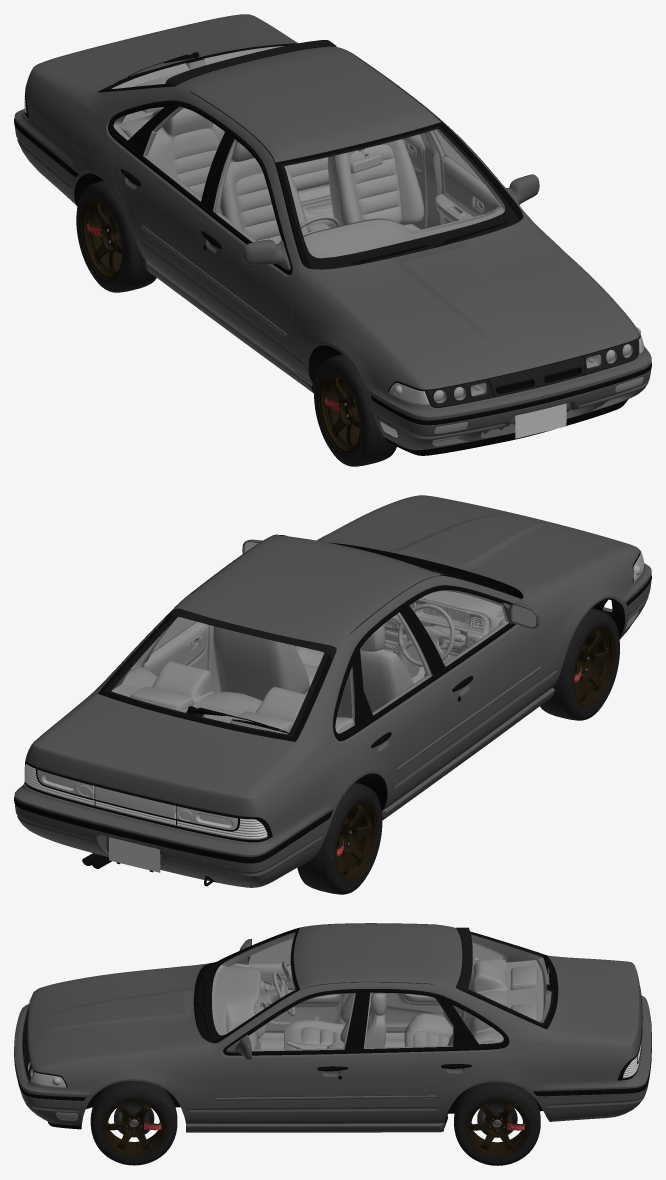
Rendered from cefiro.fbx.
The picture shows the model from 3 angles, top to bottom: view 1: azimuth 30°, elevation 25°; view 2: azimuth 150°, elevation 25°; view 3: azimuth 270°, elevation 25°; orthographic projection. The views are drawn at different scales.
Visible parts, largest first — view 1: body_0, window_rear_0, body_006, interior_h_0, body_001, seat_LOD0_0, misc_002, body_005, body_002, misc_009, glass_lights_005, Object004 (+14 smaller); view 2: body_0, window_rear_0, body_002, body_001, body_006, interior_h_0, body_004, seat_LOD0_0, misc_002, misc_009, TIRE_RF_SUB006, TIRE_RF_SUB007 (+17 smaller); view 3: body_0, window_rear_0, body_001, interior_h_0, body_006, body_002, misc_002, misc_009, TIRE_RF_SUB004, TIRE_RF_SUB005, seat_LOD0_0, body_005 (+17 smaller).
Part boxes in pixels (x1=…): body_0: x1=25, y1=14, x2=639, y2=402; window_rear_0: x1=105, y1=44, x2=519, y2=269; body_006: x1=311, y1=217, x2=638, y2=389; interior_h_0: x1=112, y1=46, x2=504, y2=258; body_001: x1=113, y1=58, x2=527, y2=369; seat_LOD0_0: x1=220, y1=139, x2=424, y2=244; misc_002: x1=26, y1=43, x2=523, y2=392; body_005: x1=366, y1=346, x2=651, y2=450; body_002: x1=40, y1=14, x2=292, y2=91; misc_009: x1=120, y1=53, x2=521, y2=274; glass_lights_005: x1=388, y1=327, x2=644, y2=407; Object004: x1=388, y1=334, x2=640, y2=408; body_0: x1=25, y1=535, x2=639, y2=879; window_rear_0: x1=105, y1=566, x2=508, y2=736; body_002: x1=37, y1=694, x2=294, y2=815; body_001: x1=186, y1=550, x2=544, y2=807; body_006: x1=317, y1=495, x2=637, y2=595; interior_h_0: x1=111, y1=572, x2=508, y2=734; body_004: x1=14, y1=783, x2=277, y2=887; seat_LOD0_0: x1=213, y1=624, x2=413, y2=717; misc_002: x1=98, y1=534, x2=621, y2=852; misc_009: x1=190, y1=534, x2=515, y2=747; TIRE_RF_SUB006: x1=297, y1=782, x2=382, y2=894; TIRE_RF_SUB007: x1=540, y1=608, x2=619, y2=720; body_0: x1=37, y1=923, x2=636, y2=1132; window_rear_0: x1=197, y1=931, x2=553, y2=1050; body_001: x1=209, y1=982, x2=483, y2=1123; interior_h_0: x1=212, y1=932, x2=551, y2=1051; body_006: x1=27, y1=963, x2=209, y2=1070; body_002: x1=548, y1=956, x2=641, y2=1052; misc_002: x1=86, y1=928, x2=616, y2=1132; misc_009: x1=219, y1=924, x2=478, y2=1079; TIRE_RF_SUB004: x1=90, y1=1081, x2=177, y2=1165; TIRE_RF_SUB005: x1=454, y1=1082, x2=540, y2=1165; seat_LOD0_0: x1=284, y1=993, x2=386, y2=1049; body_005: x1=14, y1=1004, x2=91, y2=1125.
Size of the model in its own units: 1.92 by 1.39 by 4.7.
